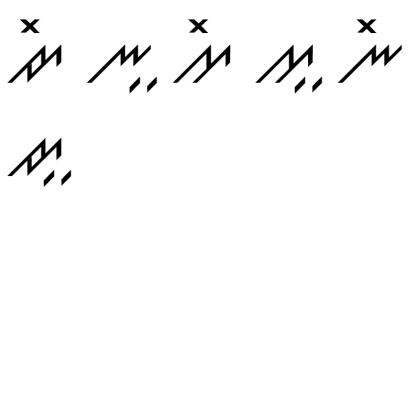jah: (6, 127, 74, 189)
jo: (6, 14, 64, 86)
nyah: (83, 38, 160, 99)
nyo: (338, 13, 405, 86)
sah: (255, 37, 325, 95)
so: (171, 14, 237, 86)
